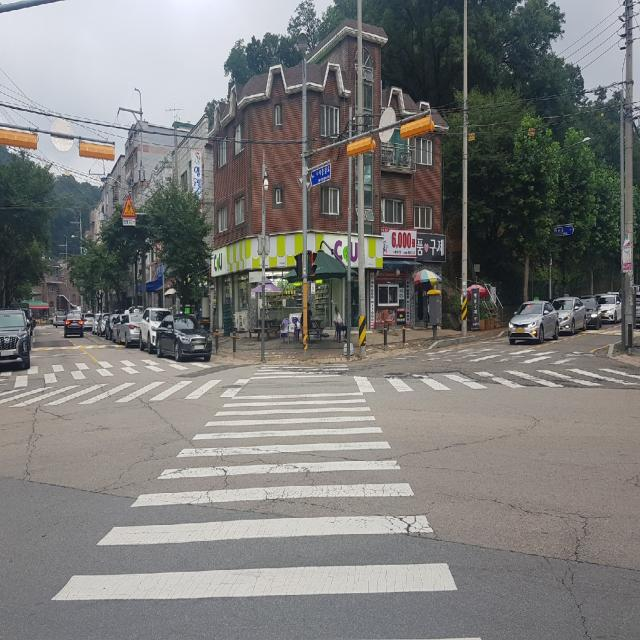빨간불: (308, 248, 318, 278)
횡단보도: (52, 400, 486, 640), (2, 358, 249, 396), (354, 370, 640, 395), (400, 346, 600, 366), (250, 363, 352, 382)
